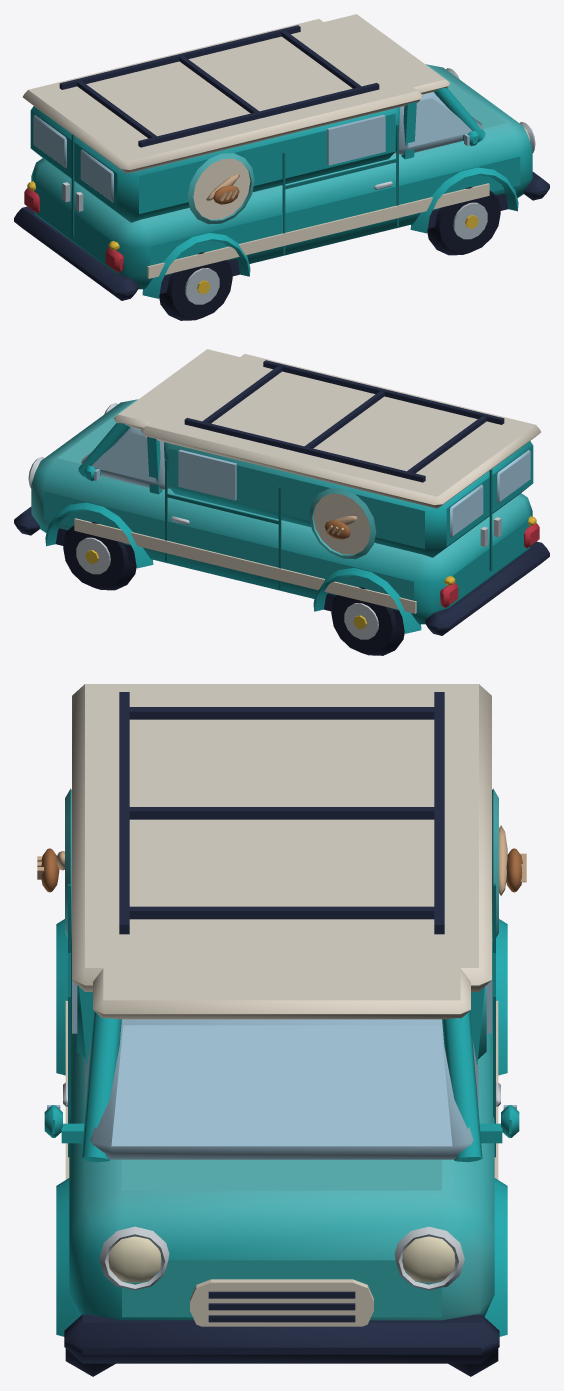
File: car_b.glb
The picture shows the model from 3 angles, top to bottom: view 1: azimuth 30°, elevation 25°; view 2: azimuth 150°, elevation 25°; view 3: azimuth 270°, elevation 25°; orthographic projection. The views are drawn at different scales.
Parts seen in each view (by area): view 1: CarB; view 2: CarB; view 3: CarB.
Boxes of the visible parts, x1=… form: CarB: x1=14, y1=14, x2=549, y2=320; CarB: x1=14, y1=349, x2=549, y2=655; CarB: x1=37, y1=684, x2=526, y2=1376.
Bounding box in the file's own units: 3.84 × 1.55 × 1.86.
